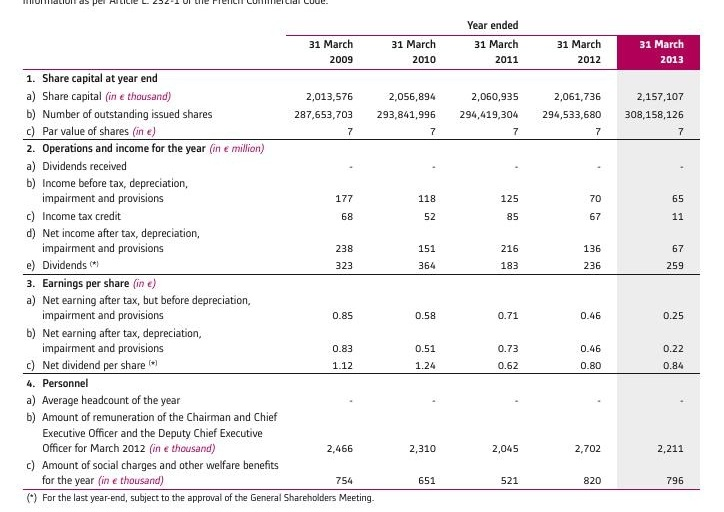table: (0, 0, 724, 512)
